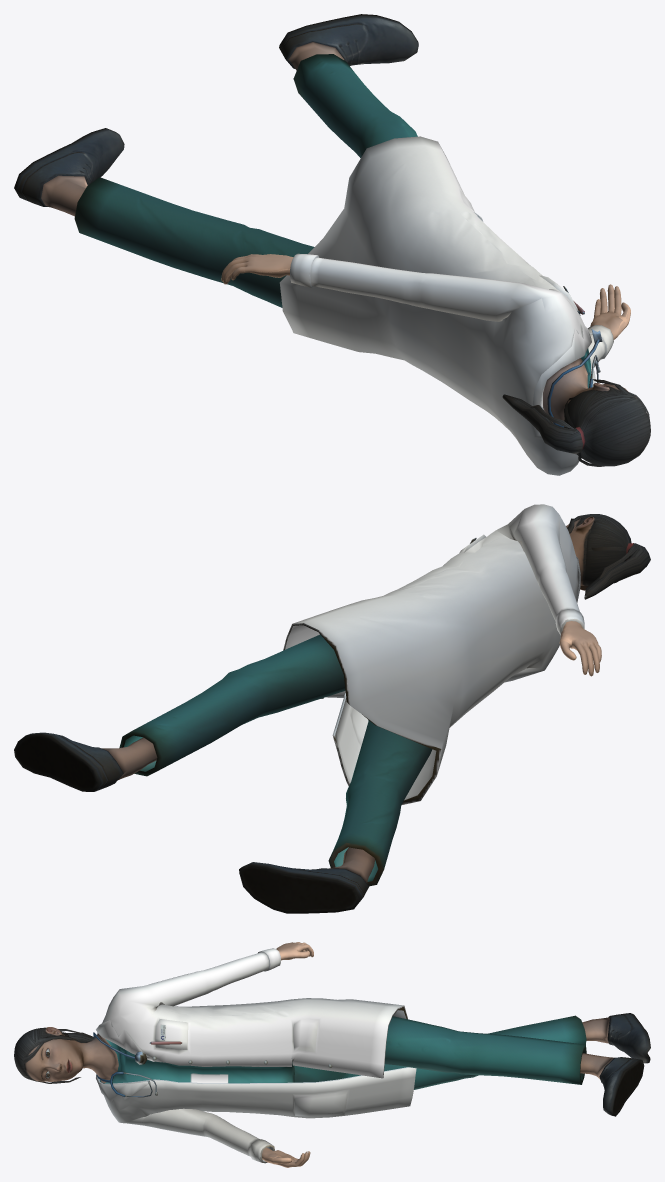
The model's file is walk.obj.
3 renders of one model, top to bottom at view 1: azimuth 30°, elevation 25°; view 2: azimuth 150°, elevation 25°; view 3: azimuth 270°, elevation 25°, orthographic. The views are drawn at different scales.
Size of the model in its own units: 0.8932 by 0.3722 by 1.71.
Materials: 1 (1 with a texture image).
